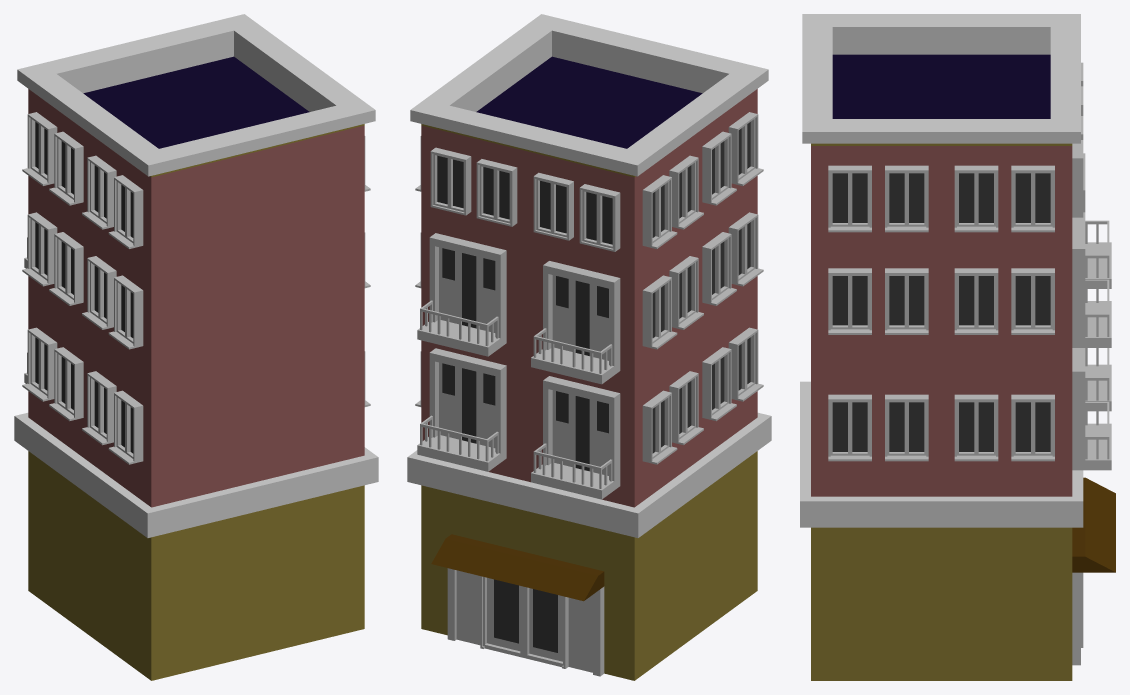
Rendered from Building_1 (1).fbx.
3 views of the same model, side by side, from view 1: azimuth 30°, elevation 25°; view 2: azimuth 150°, elevation 25°; view 3: azimuth 270°, elevation 25° (orthographic). The views are drawn at different scales.
Parts seen in each view (by area): view 1: Building_1; view 2: Building_1; view 3: Building_1.
Boxes of the visible parts, x1,y1,x2,y2 form: Building_1: [14, 14, 378, 680]; Building_1: [407, 14, 771, 680]; Building_1: [800, 14, 1115, 680].
Size of the model in its own units: 680 by 1400 by 725.
